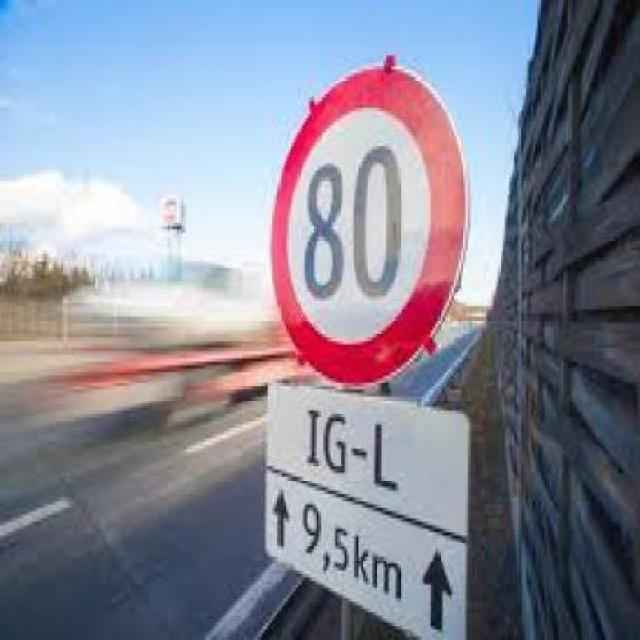forb_speed_over_80: (276, 68, 461, 374)
